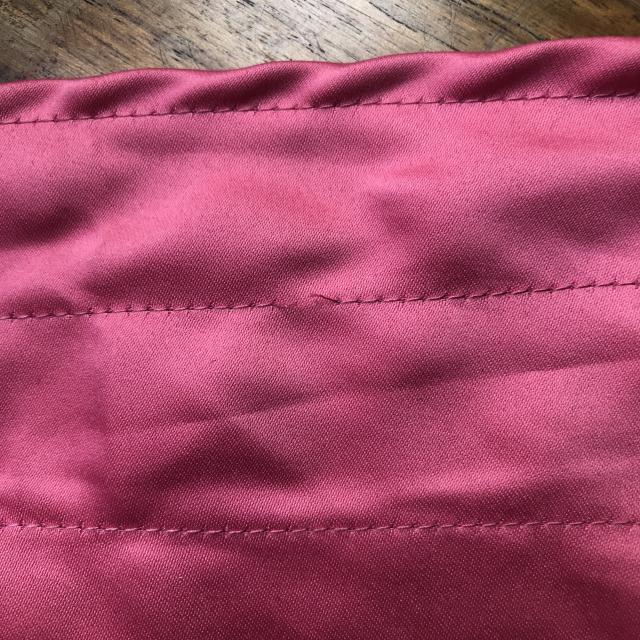broken: (245, 280, 368, 320)
good: (244, 513, 415, 550)
